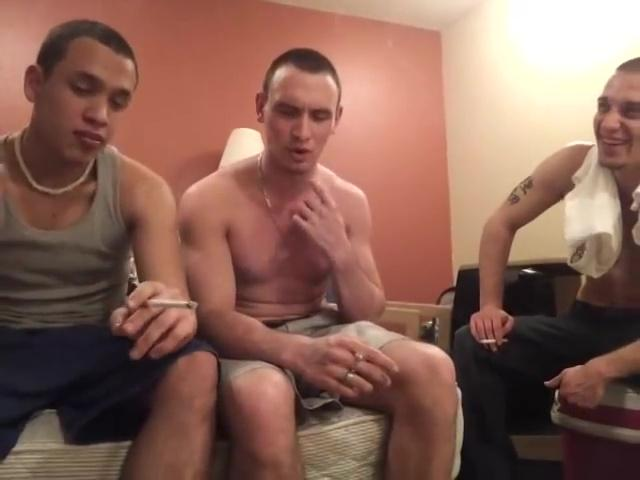cigarette: (143, 295, 200, 313), (477, 336, 513, 343)
